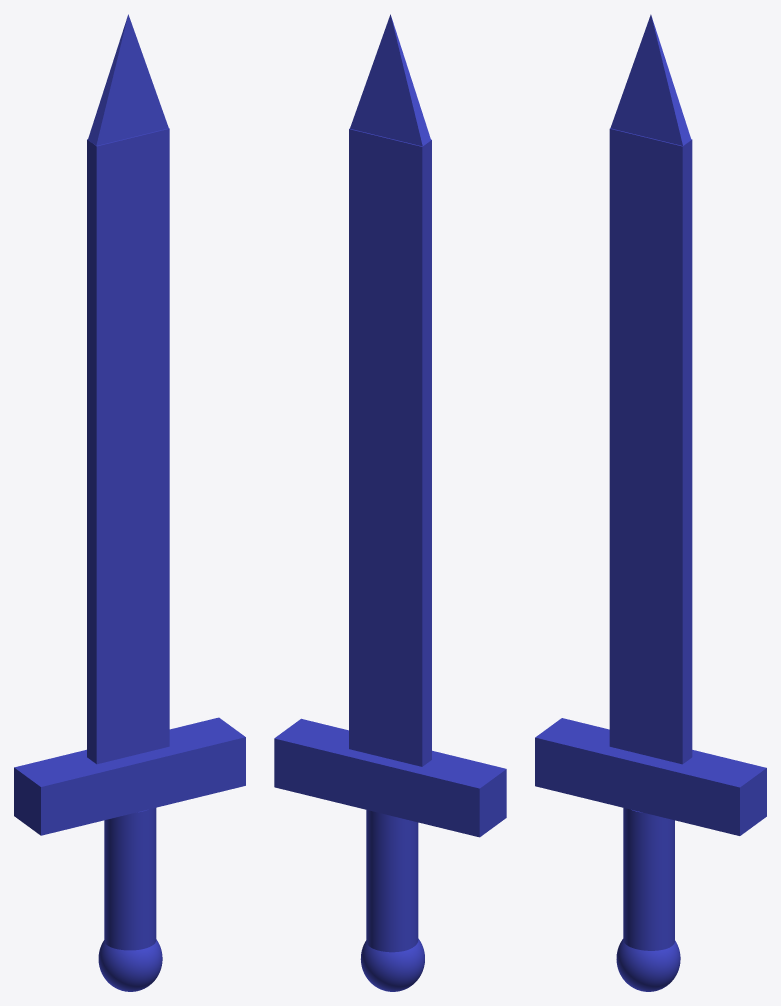
The model's file is Sword.fbx.
3 renders of one model, left to right at view 1: azimuth 30°, elevation 25°; view 2: azimuth 150°, elevation 25°; view 3: azimuth 330°, elevation 25°, orthographic.
Parts seen in each view (by area): view 1: node_id75 (×2), root (×3); view 2: node_id75 (×2), root (×3); view 3: node_id75 (×2), root (×3).
Boxes of the visible parts, x1=… form: node_id75 (×2): x1=87, y1=14, x2=169, y2=764; root (×3): x1=14, y1=717, x2=245, y2=991; node_id75 (×2): x1=349, y1=14, x2=431, y2=766; root (×3): x1=274, y1=718, x2=506, y2=991; node_id75 (×2): x1=609, y1=14, x2=692, y2=764; root (×3): x1=535, y1=718, x2=766, y2=991.
Bounding box in the file's own units: 0.0718 × 0.3261 × 0.0195.
5 materials, 1 textured.
